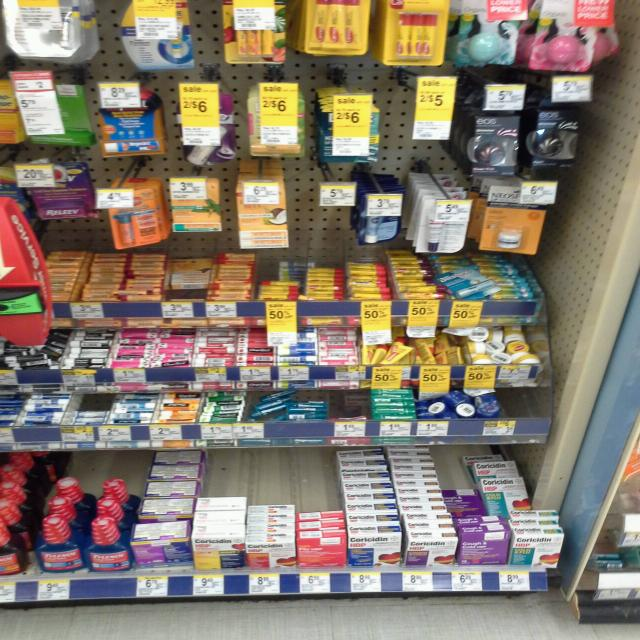empty: (495, 384, 552, 436), (331, 392, 375, 436)
